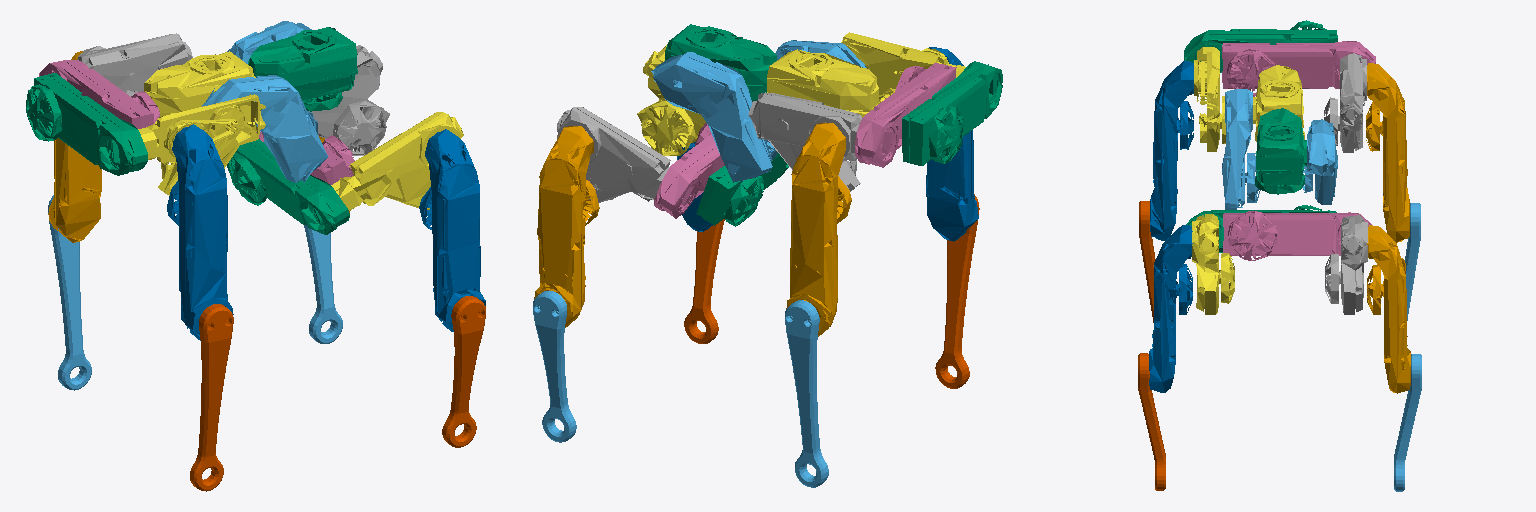
--- Render facts (derived) ---
3 views of the same robot in one strip: view 1: azimuth 30°, elevation 25°; view 2: azimuth 150°, elevation 25°; view 3: azimuth 270°, elevation 25° (orthographic).
Robot: ester — 22 links, 21 joints (16 revolute, 5 fixed); root link base_link; default pose: every joint at zero.
Links seen in each view (by area): view 1: rear_right_upper_leg_link, front_right_upper_leg_link, rear_right_hip_aa_link, spine_center_link, front_spine_pitch_link, front_right_hip_fe_link, front_right_hip_aa_link, rear_right_hip_fe_link, rear_right_lower_leg_link, front_left_hip_fe_link, rear_left_upper_leg_link, rear_spine_pitch_link (+6 smaller); view 2: rear_left_upper_leg_link, spine_center_link, front_left_upper_leg_link, rear_right_hip_aa_link, front_left_hip_fe_link, rear_spine_pitch_link, rear_left_hip_fe_link, rear_left_lower_leg_link, rear_left_hip_aa_link, rear_right_upper_leg_link, front_left_lower_leg_link, front_spine_pitch_link (+7 smaller); view 3: spine_center_link, front_left_hip_aa_link, rear_right_upper_leg_link, rear_left_upper_leg_link, rear_left_hip_aa_link, front_right_upper_leg_link, front_left_upper_leg_link, front_spine_pitch_link, front_right_hip_fe_link, front_left_hip_fe_link, rear_left_hip_fe_link, rear_right_hip_aa_link (+7 smaller).
Link boxes in pixels (left/top/right/bottom): rear_right_upper_leg_link: left=167, top=124, right=233, bottom=340; front_right_upper_leg_link: left=419, top=129, right=485, bottom=331; rear_right_hip_aa_link: left=26, top=73, right=147, bottom=175; spine_center_link: left=202, top=21, right=327, bottom=182; front_spine_pitch_link: left=248, top=27, right=357, bottom=111; front_right_hip_fe_link: left=331, top=112, right=463, bottom=210; front_right_hip_aa_link: left=227, top=139, right=349, bottom=234; rear_right_hip_fe_link: left=138, top=94, right=265, bottom=195; rear_right_lower_leg_link: left=190, top=304, right=233, bottom=491; front_left_hip_fe_link: left=309, top=45, right=389, bottom=155; rear_left_upper_leg_link: left=48, top=51, right=101, bottom=242; rear_spine_pitch_link: left=144, top=51, right=255, bottom=116; rear_left_upper_leg_link: left=786, top=122, right=851, bottom=336; spine_center_link: left=651, top=40, right=866, bottom=182; front_left_upper_leg_link: left=534, top=126, right=599, bottom=327; rear_right_hip_aa_link: left=902, top=61, right=1002, bottom=165; front_left_hip_fe_link: left=557, top=107, right=670, bottom=202; rear_spine_pitch_link: left=767, top=49, right=878, bottom=117; rear_left_hip_fe_link: left=748, top=92, right=861, bottom=191; rear_left_lower_leg_link: left=785, top=300, right=828, bottom=487; rear_left_hip_aa_link: left=855, top=63, right=956, bottom=167; rear_right_upper_leg_link: left=926, top=47, right=978, bottom=241; front_left_lower_leg_link: left=533, top=290, right=576, bottom=442; front_spine_pitch_link: left=665, top=24, right=776, bottom=101; spine_center_link: left=1222, top=89, right=1337, bottom=209; front_left_hip_aa_link: left=1223, top=211, right=1371, bottom=260; rear_right_upper_leg_link: left=1150, top=61, right=1193, bottom=240; rear_left_upper_leg_link: left=1366, top=63, right=1409, bottom=242; rear_left_hip_aa_link: left=1222, top=41, right=1375, bottom=96; front_right_upper_leg_link: left=1149, top=225, right=1192, bottom=392; front_left_upper_leg_link: left=1367, top=225, right=1410, bottom=393; front_spine_pitch_link: left=1255, top=108, right=1306, bottom=194; front_right_hip_fe_link: left=1192, top=214, right=1234, bottom=314; front_left_hip_fe_link: left=1325, top=215, right=1367, bottom=314; rear_left_hip_fe_link: left=1324, top=53, right=1366, bottom=152; rear_right_hip_aa_link: left=1184, top=20, right=1337, bottom=72.
Size in the robot's own frame: 0.3333 by 0.2506 by 0.3182 metres.
Meshes: 14 distinct files referenced, 19 mesh visuals loaded (14 binary STL).

robot.urdf — ester:
<?xml version="1.0" ?>
<!-- =================================================================================== -->
<!-- |    This document was autogenerated by xacro from urdf/ester.urdf.xacro          | -->
<!-- |    EDITING THIS FILE BY HAND IS NOT RECOMMENDED                                 | -->
<!-- =================================================================================== -->
<robot name="ester">
  <gazebo>
    <plugin filename="libgazebo_ros_control.so" name="gazebo_ros_control">
      <robotNamespace>/ester</robotNamespace>
    </plugin>
    <selfCollide>false</selfCollide>
  </gazebo>
  <!-- Dummy parent link for Gazebo -->
  <link name="base_link"/>
  <link name="spine_center_link">
    <inertial>
      <mass value="2.284352"/>
      <origin xyz="0.000343 -0.000121 -0.042803"/>
      <inertia ixx="5.168E-04" ixy="-7.248E-05" ixz="4.269E-06" iyy="3.674E-04" iyz="-4.881E-06" izz="5.638E-04"/>
    </inertial>
    <visual>
      <origin rpy="0 0 0" xyz="0 0 0"/>
      <geometry>
        <mesh filename="../meshes/spine/spine_center.stl" scale="0.001 0.001 0.001"/>
      </geometry>
    </visual>
    <collision>
      <origin rpy="0 0 0" xyz="0 0 0"/>
      <geometry>
        <mesh filename="../meshes/spine/spine_center.stl" scale="0.001 0.001 0.001"/>
      </geometry>
    </collision>
  </link>
  <joint name="spine_center_joint" type="fixed">
    <origin rpy="0 0 0" xyz="0 0 0"/>
    <parent link="base_link"/>
    <child link="spine_center_link"/>
  </joint>
  <link name="front_spine_pitch_link">
    <inertial>
      <mass value="0.153731"/>
      <origin xyz="-0.00289 -0.024746 -0.007461"/>
      <inertia ixx="5.225E-05" ixy="5.714E-08" ixz="3.625E-06" iyy="8.599E-05" iyz="-1.177E-07" izz="6.755E-05"/>
    </inertial>
    <visual>
      <origin xyz="0 0 0"/>
      <geometry>
        <mesh filename="../meshes/spine/front_spine_pitch.stl" scale="0.001 0.001 0.001"/>
      </geometry>
    </visual>
    <collision>
      <origin xyz="0 0 0"/>
      <geometry>
        <mesh filename="../meshes/spine/front_spine_pitch.stl" scale="0.001 0.001 0.001"/>
      </geometry>
    </collision>
  </link>
  <joint name="front_spine_pitch_joint" type="revolute">
    <origin rpy="0 0 0" xyz="0.045 0.025 -0.015"/>
    <axis xyz="0 1 0"/>
    <limit effort="2.5" lower="-0.2617993877991494" upper="0.2617993877991494" velocity="83.775"/>
    <dynamics damping="0.05" friction="0.1"/>
    <parent link="spine_center_link"/>
    <child link="front_spine_pitch_link"/>
  </joint>
  <transmission name="front_spine_pitch_transmission">
    <type>transmission_interface/SimpleTransmission</type>
    <joint name="front_spine_pitch_joint">
      <hardwareInterface>hardware_interface/EffortJointInterface</hardwareInterface>
    </joint>
    <actuator name="front_spine_pitch_motor">
      <hardwareInterface>hardware_interface/EffortJointInterface</hardwareInterface>
      <mechanicalReduction>1</mechanicalReduction>
    </actuator>
  </transmission>
  <link name="rear_spine_pitch_link">
    <inertial>
      <mass value="0.153731"/>
      <origin xyz="-0.00289 0.024762 -0.007461"/>
      <inertia ixx="5.225E-05" ixy="-5.718E-08" ixz="3.625E-06" iyy="8.599E-05" iyz="1.178E-07" izz="6.755E-05"/>
    </inertial>
    <visual>
      <origin xyz="0 0 0"/>
      <geometry>
        <mesh filename="../meshes/spine/rear_spine_pitch.stl" scale="0.001 0.001 0.001"/>
      </geometry>
    </visual>
    <collision>
      <origin xyz="0 0 0"/>
      <geometry>
        <mesh filename="../meshes/spine/rear_spine_pitch.stl" scale="0.001 0.001 0.001"/>
      </geometry>
    </collision>
  </link>
  <joint name="rear_spine_pitch_joint" type="revolute">
    <origin rpy="0 0 0" xyz="-0.045 -0.025 -0.015"/>
    <axis xyz="0 1 0"/>
    <limit effort="2.5" lower="-0.2617993877991494" upper="0.2617993877991494" velocity="83.775"/>
    <dynamics damping="0.05" friction="0.1"/>
    <parent link="spine_center_link"/>
    <child link="rear_spine_pitch_link"/>
  </joint>
  <transmission name="rear_spine_pitch_transmission">
    <type>transmission_interface/SimpleTransmission</type>
    <joint name="rear_spine_pitch_joint">
      <hardwareInterface>hardware_interface/EffortJointInterface</hardwareInterface>
    </joint>
    <actuator name="rear_spine_pitch_motor">
      <hardwareInterface>hardware_interface/EffortJointInterface</hardwareInterface>
      <mechanicalReduction>1</mechanicalReduction>
    </actuator>
  </transmission>
  <link name="front_spine_yaw_link">
    <inertial>
      <mass value="0.1"/>
      <origin xyz="0 0 0"/>
      <inertia ixx="1E-05" ixy="0" ixz="0" iyy="1E-05" iyz="0" izz="1E-05"/>
    </inertial>
  </link>
  <joint name="front_spine_yaw_joint" type="revolute">
    <origin rpy="0 0 0" xyz="0 -0.02505 0.02115"/>
    <axis xyz="0 0 1"/>
    <limit effort="2.5" lower="-0.2617993877991494" upper="0.2617993877991494" velocity="83.775"/>
    <dynamics damping="0.05" friction="0.1"/>
    <parent link="front_spine_pitch_link"/>
    <child link="front_spine_yaw_link"/>
  </joint>
  <transmission name="front_spine_yaw_transmission">
    <type>transmission_interface/SimpleTransmission</type>
    <joint name="front_spine_yaw_joint">
      <hardwareInterface>hardware_interface/EffortJointInterface</hardwareInterface>
    </joint>
    <actuator name="front_spine_yaw_motor">
      <hardwareInterface>hardware_interface/EffortJointInterface</hardwareInterface>
      <mechanicalReduction>1</mechanicalReduction>
    </actuator>
  </transmission>
  <link name="rear_spine_yaw_link">
    <inertial>
      <mass value="0.1"/>
      <origin xyz="0 0 0"/>
      <inertia ixx="1E-05" ixy="0" ixz="0" iyy="1E-05" iyz="0" izz="1E-05"/>
    </inertial>
  </link>
  <joint name="rear_spine_yaw_joint" type="revolute">
    <origin rpy="0 0 0" xyz="0 0.02505 0.02115"/>
    <axis xyz="0 0 1"/>
    <limit effort="2.5" lower="-0.2617993877991494" upper="0.2617993877991494" velocity="83.775"/>
    <dynamics damping="0.05" friction="0.1"/>
    <parent link="rear_spine_pitch_link"/>
    <child link="rear_spine_yaw_link"/>
  </joint>
  <transmission name="rear_spine_yaw_transmission">
    <type>transmission_interface/SimpleTransmission</type>
    <joint name="rear_spine_yaw_joint">
      <hardwareInterface>hardware_interface/EffortJointInterface</hardwareInterface>
    </joint>
    <actuator name="rear_spine_yaw_motor">
      <hardwareInterface>hardware_interface/EffortJointInterface</hardwareInterface>
      <mechanicalReduction>1</mechanicalReduction>
    </actuator>
  </transmission>
  <link name="front_left_hip_aa_link">
    <inertial>
      <mass value="0.149885"/>
      <origin xyz="-0.017329 -0.026389 0.014"/>
      <inertia ixx="2.575E-04" ixy="2.519E-05" ixz="7.023E-09" iyy="2.683E-05" iyz="-6.917E-08" izz="2.557E-04"/>
    </inertial>
    <visual>
      <origin rpy="0 0 0" xyz="0 0 0"/>
      <geometry>
        <mesh filename="../meshes/leg/front_hip_aa.stl" scale="0.001 0.001 0.001"/>
      </geometry>
    </visual>
    <collision>
      <origin rpy="0 0 0" xyz="0 0 0"/>
      <geometry>
        <mesh filename="../meshes/leg/front_hip_aa.stl" scale="0.001 0.001 0.001"/>
      </geometry>
    </collision>
  </link>
  <joint name="front_left_hip_aa_joint" type="fixed">
    <origin rpy="0 0.3490658503988659 3.141592653589793" xyz="-0.0178 -0.024 -0.1065"/>
    <parent link="front_spine_yaw_link"/>
    <child link="front_left_hip_aa_link"/>
  </joint>
  <link name="front_left_hip_fe_link">
    <inertial>
      <mass value="0.153186"/>
      <origin xyz="-0.061937 0.003088 -0.021037"/>
      <inertia ixx="7.863E-05" ixy="-2.900E-06" ixz="-8.186E-06" iyy="1.242E-04" iyz="9.777E-06" izz="7.027E-05"/>
    </inertial>
    <visual>
      <origin rpy="0 0 0" xyz="0 0 0"/>
      <geometry>
        <mesh filename="../meshes/leg/front_left_hip_fe.stl" scale="0.001 0.001 0.001"/>
      </geometry>
    </visual>
    <collision>
      <origin rpy="0 0 0" xyz="0 0 0"/>
      <geometry>
        <mesh filename="../meshes/leg/front_left_hip_fe.stl" scale="0.001 0.001 0.001"/>
      </geometry>
    </collision>
  </link>
  <joint name="front_left_hip_fe_joint" type="revolute">
    <origin rpy="0 0 0" xyz="-0.0175 -0.0878 0"/>
    <axis xyz="1 0 0"/>
    <limit effort="2.5" lower="-0.7853981633974483" upper="0.17453292519943295" velocity="83.775"/>
    <dynamics damping="0.05" friction="0.1"/>
    <parent link="front_left_hip_aa_link"/>
    <child link="front_left_hip_fe_link"/>
  </joint>
  <transmission name="front_left_hip_fe_transmission">
    <type>transmission_interface/SimpleTransmission</type>
    <joint name="front_left_hip_fe_joint">
      <hardwareInterface>hardware_interface/EffortJointInterface</hardwareInterface>
    </joint>
    <actuator name="front_left_hip_fe_motor">
      <hardwareInterface>hardware_interface/EffortJointInterface</hardwareInterface>
      <mechanicalReduction>1</mechanicalReduction>
    </actuator>
  </transmission>
  <link name="front_left_upper_leg_link">
    <inertial>
      <mass value="0.154958"/>
      <origin xyz="0.000013 0.020573 -0.065721"/>
      <inertia ixx="2.379E-04" ixy="6.564E-09" ixz="-5.075E-08" iyy="2.382E-04" iyz="2.772E-05" izz="2.819E-05"/>
    </inertial>
    <visual>
      <origin rpy="0 0 0" xyz="0 0 0"/>
      <geometry>
        <mesh filename="../meshes/leg/front_left_upper_leg.stl" scale="0.001 0.001 0.001"/>
      </geometry>
    </visual>
    <collision>
      <origin rpy="0 0 0" xyz="0 0 0"/>
      <geometry>
        <mesh filename="../meshes/leg/front_left_upper_leg.stl" scale="0.001 0.001 0.001"/>
      </geometry>
    </collision>
  </link>
  <joint name="front_left_upper_leg_joint" type="revolute">
    <origin rpy="0 0.3490658503988659 3.141592653589793" xyz="-0.0773 -0.013 0"/>
    <axis xyz="0 1 0"/>
    <limit effort="2.5" lower="-1.5707963267948966" upper="1.5707963267948966" velocity="83.775"/>
    <dynamics damping="0.05" friction="0.1"/>
    <parent link="front_left_hip_fe_link"/>
    <child link="front_left_upper_leg_link"/>
  </joint>
  <transmission name="front_left_upper_leg_transmission">
    <type>transmission_interface/SimpleTransmission</type>
    <joint name="front_left_upper_leg_joint">
      <hardwareInterface>hardware_interface/EffortJointInterface</hardwareInterface>
    </joint>
    <actuator name="front_left_upper_leg_motor">
      <hardwareInterface>hardware_interface/EffortJointInterface</hardwareInterface>
      <mechanicalReduction>1</mechanicalReduction>
    </actuator>
  </transmission>
  <link name="front_left_lower_leg_link">
    <inertial>
      <mass value="0.023609"/>
      <origin xyz="0 -0.00816 -0.044589"/>
      <inertia ixx="3.673E-05" ixy="-1.666E-16" ixz="6.558E-16" iyy="3.653E-05" iyz="-5.092E-06" izz="1.804E-06"/>
    </inertial>
    <visual>
      <origin rpy="0 0 0" xyz="0 0 0"/>
      <geometry>
        <mesh filename="../meshes/leg/front_lower_leg.stl" scale="0.001 0.001 0.001"/>
      </geometry>
    </visual>
    <collision>
      <origin rpy="0 0 0" xyz="0 0 0"/>
      <geometry>
        <mesh filename="../meshes/leg/front_lower_leg.stl" scale="0.001 0.001 0.001"/>
      </geometry>
    </collision>
  </link>
  <joint name="front_left_lower_leg_joint" type="revolute">
    <axis xyz="0 1 0"/>
    <limit effort="2.5" lower="-1.5707963267948966" upper="1.5707963267948966" velocity="83.775"/>
    <dynamics damping="0.05" friction="0.1"/>
    <origin rpy="0 0 0" xyz="0 0.0285 -0.1232"/>
    <parent link="front_left_upper_leg_link"/>
    <child link="front_left_lower_leg_link"/>
  </joint>
  <transmission name="front_left_lower_leg_transmission">
    <type>transmission_interface/SimpleTransmission</type>
    <joint name="front_left_lower_leg_joint">
      <hardwareInterface>hardware_interface/EffortJointInterface</hardwareInterface>
    </joint>
    <actuator name="front_left_lower_leg_motor">
      <hardwareInterface>hardware_interface/EffortJointInterface</hardwareInterface>
      <mechanicalReduction>1</mechanicalReduction>
    </actuator>
  </transmission>
  <link name="front_right_hip_aa_link">
    <inertial>
      <mass value="0.149885"/>
      <origin xyz="-0.017329 -0.026389 0.014"/>
      <inertia ixx="2.575E-04" ixy="2.519E-05" ixz="7.023E-09" iyy="2.683E-05" iyz="-6.917E-08" izz="2.557E-04"/>
    </inertial>
    <visual>
      <origin rpy="0 0 0" xyz="0 0 0"/>
      <geometry>
        <mesh filename="../meshes/leg/front_hip_aa.stl" scale="0.001 0.001 0.001"/>
      </geometry>
    </visual>
    <collision>
      <origin rpy="0 0 0" xyz="0 0 0"/>
      <geometry>
        <mesh filename="../meshes/leg/front_hip_aa.stl" scale="0.001 0.001 0.001"/>
      </geometry>
    </collision>
  </link>
  <joint name="front_right_hip_aa_joint" type="fixed">
    <origin rpy="0 -0.3490658503988659 0" xyz="-0.0178 0.024 -0.1065"/>
    <parent link="front_spine_yaw_link"/>
    <child link="front_right_hip_aa_link"/>
  </joint>
  <link name="front_right_hip_fe_link">
    <inertial>
      <mass value="0.153185"/>
      <origin xyz="-0.061937 -0.003088 -0.021037"/>
      <inertia ixx="7.863E-05" ixy="2.900E-06" ixz="-8.186E-06" iyy="1.242E-04" iyz="-9.776E-06" izz="7.027E-05"/>
    </inertial>
    <visual>
      <origin rpy="0 0 0" xyz="0 0 0"/>
      <geometry>
        <mesh filename="../meshes/leg/front_right_hip_fe.stl" scale="0.001 0.001 0.001"/>
      </geometry>
    </visual>
    <collision>
      <origin rpy="0 0 0" xyz="0 0 0"/>
      <geometry>
        <mesh filename="../meshes/leg/front_right_hip_fe.stl" scale="0.001 0.001 0.001"/>
      </geometry>
    </collision>
  </link>
  <joint name="front_right_hip_fe_joint" type="revolute">
    <origin rpy="0 0 3.141592653589793" xyz="0.0135 -0.0878 0"/>
    <axis xyz="1 0 0"/>
    <limit effort="2.5" lower="-0.17453292519943295" upper="0.7853981633974483" velocity="83.775"/>
    <dynamics damping="0.05" friction="0.1"/>
    <parent link="front_right_hip_aa_link"/>
    <child link="front_right_hip_fe_link"/>
  </joint>
  <transmission name="front_right_hip_fe_transmission">
    <type>transmission_interface/SimpleTransmission</type>
    <joint name="front_right_hip_fe_joint">
      <hardwareInterface>hardware_interface/EffortJointInterface</hardwareInterface>
    </joint>
    <actuator name="front_right_hip_fe_motor">
      <hardwareInterface>hardware_interface/EffortJointInterface</hardwareInterface>
      <mechanicalReduction>1</mechanicalReduction>
    </actuator>
  </transmission>
  <link name="front_right_upper_leg_link">
    <inertial>
      <mass value="0.154958"/>
      <origin xyz="0.000013 -0.020573 -0.065721"/>
      <inertia ixx="2.379E-04" ixy="6.564E-09" ixz="5.075E-08" iyy="2.382E-04" iyz="-2.772E-05" izz="2.819E-05"/>
    </inertial>
    <visual>
      <origin rpy="0 0 0" xyz="0 0 0"/>
      <geometry>
        <mesh filename="../meshes/leg/front_right_upper_leg.stl" scale="0.001 0.001 0.001"/>
      </geometry>
    </visual>
    <collision>
      <origin rpy="0 0 0" xyz="0 0 0"/>
      <geometry>
        <mesh filename="../meshes/leg/front_right_upper_leg.stl" scale="0.001 0.001 0.001"/>
      </geometry>
    </collision>
  </link>
  <joint name="front_right_upper_leg_joint" type="revolute">
    <origin rpy="0 0.3490658503988659 3.141592653589793" xyz="-0.0773 0.013 0"/>
    <axis xyz="0 1 0"/>
    <limit effort="2.5" lower="-1.5707963267948966" upper="1.5707963267948966" velocity="83.775"/>
    <dynamics damping="0.05" friction="0.1"/>
    <parent link="front_right_hip_fe_link"/>
    <child link="front_right_upper_leg_link"/>
  </joint>
  <transmission name="front_right_upper_leg_transmission">
    <type>transmission_interface/SimpleTransmission</type>
    <joint name="front_right_upper_leg_joint">
      <hardwareInterface>hardware_interface/EffortJointInterface</hardwareInterface>
    </joint>
    <actuator name="front_right_upper_leg_motor">
      <hardwareInterface>hardware_interface/EffortJointInterface</hardwareInterface>
      <mechanicalReduction>1</mechanicalReduction>
    </actuator>
  </transmission>
  <link name="front_right_lower_leg_link">
    <inertial>
      <mass value="0.023609"/>
      <origin xyz="0 -0.00816 -0.044589"/>
      <inertia ixx="3.673E-05" ixy="-1.369E-16" ixz="5.901E-16" iyy="3.653E-05" iyz="5.092E-06" izz="1.804E-06"/>
    </inertial>
    <visual>
      <origin rpy="0 0 3.141592653589793" xyz="0 0 0"/>
      <geometry>
        <mesh filename="../meshes/leg/front_lower_leg.stl" scale="0.001 0.001 0.001"/>
      </geometry>
    </visual>
    <collision>
      <origin rpy="0 0 3.141592653589793" xyz="0 0 0"/>
      <geometry>
        <mesh filename="../meshes/leg/front_lower_leg.stl" scale="0.001 0.001 0.001"/>
      </geometry>
    </collision>
  </link>
  <joint name="front_right_lower_leg_joint" type="revolute">
    <axis xyz="0 1 0"/>
    <limit effort="2.5" lower="-1.5707963267948966" upper="1.5707963267948966" velocity="83.775"/>
    <dynamics damping="0.05" friction="0.1"/>
    <origin rpy="0 0 0" xyz="0 -0.0285 -0.1232"/>
    <parent link="front_right_upper_leg_link"/>
    <child link="front_right_lower_leg_link"/>
  </joint>
  <transmission name="front_right_lower_leg_transmission">
    <type>transmission_interface/SimpleTransmission</type>
    <joint name="front_right_lower_leg_joint">
      <hardwareInterface>hardware_interface/EffortJointInterface</hardwareInterface>
    </joint>
    <actuator name="front_right_lower_leg_motor">
      <hardwareInterface>hardware_interface/EffortJointInterface</hardwareInterface>
      <mechanicalReduction>1</mechanicalReduction>
    </actuator>
  </transmission>
  <link name="rear_left_hip_aa_link">
    <inertial>
      <mass value="0.149885"/>
      <origin xyz="-0.017329 -0.026389 0.014"/>
      <inertia ixx="2.575E-04" ixy="2.519E-05" ixz="7.023E-09" iyy="2.683E-05" iyz="-6.917E-08" izz="2.557E-04"/>
    </inertial>
    <visual>
      <origin rpy="0 0 0" xyz="0 0 0"/>
      <geometry>
        <mesh filename="../meshes/leg/front_hip_aa.stl" scale="0.001 0.001 0.001"/>
      </geometry>
    </visual>
    <collision>
      <origin rpy="0 0 0" xyz="0 0 0"/>
      <geometry>
        <mesh filename="../meshes/leg/front_hip_aa.stl" scale="0.001 0.001 0.001"/>
      </geometry>
    </collision>
  </link>
  <joint name="rear_left_hip_aa_joint" type="fixed">
    <origin rpy="0 0 3.141592653589793" xyz="-0.10425 -0.025 -0.02"/>
    <parent link="rear_spine_yaw_link"/>
    <child link="rear_left_hip_aa_link"/>
  </joint>
  <link name="rear_left_hip_fe_link">
    <inertial>
      <mass value="0.153223"/>
      <origin xyz="0.039662 -0.003149 -0.021034"/>
      <inertia ixx="7.862E-05" ixy="3.822E-06" ixz="-3.028E-06" iyy="1.188E-04" iyz="-9.665E-06" izz="6.484E-05"/>
    </inertial>
    <visual>
      <origin rpy="0 0 3.141592653589793" xyz="0 0 0"/>
      <geometry>
        <mesh filename="../meshes/leg/rear_right_hip_fe.stl" scale="0.001 0.001 0.001"/>
      </geometry>
    </visual>
    <collision>
      <origin rpy="0 0 3.141592653589793" xyz="0 0 0"/>
      <geometry>
        <mesh filename="../meshes/leg/rear_right_hip_fe.stl" scale="0.001 0.001 0.001"/>
      </geometry>
    </collision>
  </link>
  <joint name="rear_left_hip_fe_joint" type="revolute">
    <origin rpy="0 0 0" xyz="-0.0175 -0.0878 0"/>
    <axis xyz="1 0 0"/>
    <limit effort="2.5" lower="-0.7853981633974483" upper="0.17453292519943295" velocity="83.775"/>
    <dynamics damping="0.05" friction="0.1"/>
    <parent link="rear_left_hip_aa_link"/>
    <child link="rear_left_hip_fe_link"/>
  </joint>
  <transmission name="rear_left_hip_fe_transmission">
    <type>transmission_interface/SimpleTransmission</type>
    <joint name="rear_left_hip_fe_joint">
      <hardwareInterface>hardware_interface/EffortJointInterface</hardwareInterface>
    </joint>
    <actuator name="rear_left_hip_fe_motor">
      <hardwareInterface>hardware_interface/EffortJointInterface</hardwareInterface>
      <mechanicalReduction>1</mechanicalReduction>
    </actuator>
  </transmission>
  <link name="rear_left_upper_leg_link">
    <inertial>
      <mass value="0.160729"/>
      <origin xyz="0.000013 0.0287 -0.069823"/>
      <inertia ixx="2.980E-04" ixy="6.814E-09" ixz="5.850E-08" iyy="2.986E-04" iyz="3.241E-05" izz="2.929E-05"/>
    </inertial>
    <visual>
      <origin rpy="0 0 0" xyz="0 0 0"/>
      <geometry>
        <mesh filename="../meshes/leg/rear_left_upper_leg.stl" scale="0.001 0.001 0.001"/>
      </geometry>
    </visual>
    <collision>
      <origin rpy="0 0 0" xyz="0 0 0"/>
      <geometry>
        <mesh filename="../meshes/leg/rear_left_upper_leg.stl" scale="0.001 0.001 0.001"/>
      </geometry>
    </collision>
  </link>
  <joint name="rear_left_upper_leg_joint" type="revolute">
    <origin rpy="0 0 3.141592653589793" xyz="-0.0259 -0.013 0"/>
    <axis xyz="0 1 0"/>
    <limit effort="2.5" lower="-1.5707963267948966" upper="1.5707963267948966" velocity="83.775"/>
    <dynamics damping="0.05" friction="0.1"/>
    <parent link="rear_left_hip_fe_link"/>
    <child link="rear_left_upper_leg_link"/>
  </joint>
  <transmission name="rear_left_upper_leg_transmission">
    <type>transmission_interface/SimpleTransmission</type>
    <joint name="rear_left_upper_leg_joint">
      <hardwareInterface>hardware_interface/EffortJointInterface</hardwareInterface>
    </joint>
    <actuator name="rear_left_upper_leg_motor">
      <hardwareInterface>hardware_interface/EffortJointInterface</hardwareInterface>
      <mechanicalReduction>1</mechanicalReduction>
    </actuator>
  </transmission>
  <link name="rear_left_lower_leg_link">
    <inertial>
      <mass value="0.028708"/>
      <origin xyz="0 0.008269 -0.057302"/>
      <inertia ixx="6.697E-05" ixy="-6.929E-17" ixz="3.012E-16" iyy="6.678E-05" iyz="-7.390E-06" izz="2.0798E-06"/>
    </inertial>
    <visual>
      <origin rpy="0 0 0" xyz="0 0 0"/>
      <geometry>
        <mesh filename="../meshes/leg/rear_lower_leg.stl" scale="0.001 0.001 0.001"/>
      </geometry>
    </visual>
    <collision>
      <origin rpy="0 0 0" xyz="0 0 0"/>
      <geometry>
        <mesh filename="../meshes/leg/rear_lower_leg.stl" scale="0.001 0.001 0.001"/>
      </geometry>
    </collision>
  </link>
  <joint name="rear_left_lower_leg_joint" type="revolute">
    <axis xyz="0 1 0"/>
    <limit effort="2.5" lower="-1.5707963267948966" upper="1.5707963267948966" velocity="83.775"/>
    <dynamics damping="0.05" friction="0.1"/>
    <origin rpy="0 0 0" xyz="0 0.0285 -0.134"/>
    <parent link="rear_left_upper_leg_link"/>
    <child link="rear_left_lower_leg_link"/>
  </joint>
  <transmission name="rear_left_lower_leg_transmission">
    <type>transmission_interface/SimpleTransmission</type>
    <joint name="rear_left_lower_leg_joint">
      <hardwareInterface>hardware_interface/EffortJointInterface</hardwareInterface>
    </joint>
    <actuator name="rear_left_lower_leg_motor">
      <hardwareInterface>hardware_interface/EffortJointInterface</hardwareInterface>
      <mechanicalReduction>1</mechanicalReduction>
    </actuator>
  </transmission>
  <link name="rear_right_hip_aa_link">
    <inertial>
      <mass value="0.149885"/>
      <origin xyz="-0.017329 -0.026389 0.014"/>
      <inertia ixx="2.575E-04" ixy="2.519E-05" ixz="7.023E-09" iyy="2.683E-05" iyz="-6.917E-08" izz="2.557E-04"/>
    </inertial>
    <visual>
      <origin rpy="0 0 0" xyz="0 0 0"/>
      <geometry>
        <mesh filename="../meshes/leg/front_hip_aa.stl" scale="0.001 0.001 0.001"/>
      </geometry>
    </visual>
    <collision>
      <origin rpy="0 0 0" xyz="0 0 0"/>
      <geometry>
        <mesh filename="../meshes/leg/front_hip_aa.stl" scale="0.001 0.001 0.001"/>
      </geometry>
    </collision>
  </link>
  <joint name="rear_right_hip_aa_joint" type="fixed">
    <origin rpy="0 0 0" xyz="-0.10425 0.025 -0.02"/>
    <parent link="rear_spine_yaw_link"/>
    <child link="rear_right_hip_aa_link"/>
  </joint>
  <link name="rear_right_hip_fe_link">
    <inertial>
      <mass value="0.158428"/>
      <origin xyz="0.038077 0.003046 -0.020343"/>
      <inertia ixx="8.134E-05" ixy="-4.587E-06" ixz="2.081E-06" iyy="1.332E-04" iyz="9.999E-06" izz="7.691E-05"/>
    </inertial>
    <visual>
      <origin rpy="0 0 3.141592653589793" xyz="0 0 0"/>
      <geometry>
        <mesh filename="../meshes/leg/rear_left_hip_fe.stl" scale="0.001 0.001 0.001"/>
      </geometry>
    </visual>
    <collision>
      <origin rpy="0 0 3.141592653589793" xyz="0 0 0"/>
      <geometry>
        <mesh filename="../meshes/leg/rear_left_hip_fe.stl" scale="0.001 0.001 0.001"/>
      </geometry>
    </collision>
  </link>
  <joint name="rear_right_hip_fe_joint" type="revolute">
    <origin rpy="0 0 3.141592653589793" xyz="0.0135 -0.0878 0"/>
    <axis xyz="1 0 0"/>
    <limit effort="2.5" lower="-0.17453292519943295" upper="0.7853981633974483" velocity="83.775"/>
    <dynamics damping="0.05" friction="0.1"/>
    <parent link="rear_right_hip_aa_link"/>
    <child link="rear_right_hip_fe_link"/>
  </joint>
  <transmission name="rear_right_hip_fe_transmission">
    <type>transmission_interface/SimpleTransmission</type>
    <joint name="rear_right_hip_fe_joint">
      <hardwareInterface>hardware_interface/EffortJointInterface</hardwareInterface>
    </joint>
    <actuator name="rear_right_hip_fe_motor">
      <hardwareInterface>hardware_interface/EffortJointInterface</hardwareInterface>
      <mechanicalReduction>1</mechanicalReduction>
    </actuator>
  </transmission>
  <link name="rear_right_upper_leg_link">
    <inertial>
      <mass value="0.160729"/>
      <origin xyz="0.000013 -0.0287 -0.069823"/>
      <inertia ixx="2.980E-04" ixy="6.814E-09" ixz="5.850E-08" iyy="2.986E-04" iyz="-3.241E-05" izz="2.929E-05"/>
    </inertial>
    <visual>
      <origin rpy="0 0 0" xyz="0 0 0"/>
      <geometry>
        <mesh filename="../meshes/leg/rear_right_upper_leg.stl" scale="0.001 0.001 0.001"/>
      </geometry>
    </visual>
    <collision>
      <origin rpy="0 0 0" xyz="0 0 0"/>
      <geometry>
        <mesh filename="../meshes/leg/rear_right_upper_leg.stl" scale="0.001 0.001 0.001"/>
      </geometry>
    </collision>
  </link>
  <joint name="rear_right_upper_leg_joint" type="revolute">
    <origin rpy="0 0 3.141592653589793" xyz="-0.0259 0.013 0"/>
    <axis xyz="0 1 0"/>
    <limit effort="2.5" lower="-1.5707963267948966" upper="1.5707963267948966" velocity="83.775"/>
    <dynamics damping="0.05" friction="0.1"/>
    <parent link="rear_right_hip_fe_link"/>
    <child link="rear_right_upper_leg_link"/>
  </joint>
  <transmission name="rear_right_upper_leg_transmission">
    <type>transmission_interface/SimpleTransmission</type>
    <joint name="rear_right_upper_leg_joint">
      <hardwareInterface>hardware_interface/EffortJointInterface</hardwareInterface>
    </joint>
    <actuator name="rear_right_upper_leg_motor">
      <hardwareInterface>hardware_interface/EffortJointInterface</hardwareInterface>
      <mechanicalReduction>1</mechanicalReduction>
    </actuator>
  </transmission>
  <link name="rear_right_lower_leg_link">
    <inertial>
      <mass value="0.028708"/>
      <origin xyz="0 -0.008269 -0.057302"/>
      <inertia ixx="6.697E-05" ixy="-5.712E-17" ixz="4.520E-16" iyy="6.678E-05" iyz="7.390E-06" izz="2.0798E-06"/>
    </inertial>
    <visual>
      <origin rpy="0 0 3.141592653589793" xyz="0 0 0"/>
      <geometry>
        <mesh filename="../meshes/leg/rear_lower_leg.stl" scale="0.001 0.001 0.001"/>
      </geometry>
    </visual>
    <collision>
      <origin rpy="0 0 3.141592653589793" xyz="0 0 0"/>
      <geometry>
        <mesh filename="../meshes/leg/rear_lower_leg.stl" scale="0.001 0.001 0.001"/>
      </geometry>
    </collision>
  </link>
  <joint name="rear_right_lower_leg_joint" type="revolute">
    <axis xyz="0 1 0"/>
    <limit effort="2.5" lower="-1.5707963267948966" upper="1.5707963267948966" velocity="83.775"/>
    <dynamics damping="0.05" friction="0.1"/>
    <origin rpy="0 0 0" xyz="0 -0.0285 -0.134"/>
    <parent link="rear_right_upper_leg_link"/>
    <child link="rear_right_lower_leg_link"/>
  </joint>
  <transmission name="rear_right_lower_leg_transmission">
    <type>transmission_interface/SimpleTransmission</type>
    <joint name="rear_right_lower_leg_joint">
      <hardwareInterface>hardware_interface/EffortJointInterface</hardwareInterface>
    </joint>
    <actuator name="rear_right_lower_leg_motor">
      <hardwareInterface>hardware_interface/EffortJointInterface</hardwareInterface>
      <mechanicalReduction>1</mechanicalReduction>
    </actuator>
  </transmission>
  <!--<xacro:neck/>-->
  <!--<xacro:head/>-->
</robot>
